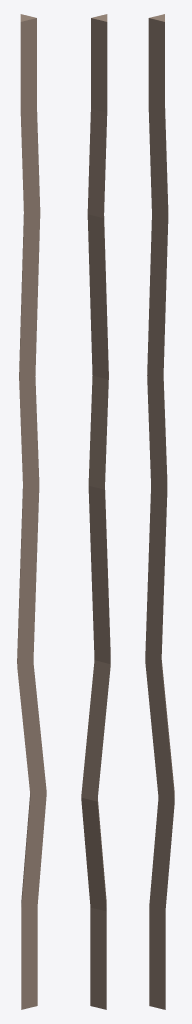
The model's file is rope.fbx.
3 renders of one model, left to right at view 1: azimuth 30°, elevation 25°; view 2: azimuth 210°, elevation 25°; view 3: azimuth 330°, elevation 25°, orthographic.
Parts seen in each view (by area): view 1: Cylinder; view 2: Cylinder; view 3: Cylinder.
Part boxes in pixels (x1,y1,x2,y2): Cylinder: [17, 14, 46, 1009]; Cylinder: [81, 14, 110, 1009]; Cylinder: [145, 14, 174, 1009].
Bounding box in the file's own units: 0.3146 × 10.01 × 0.15.
